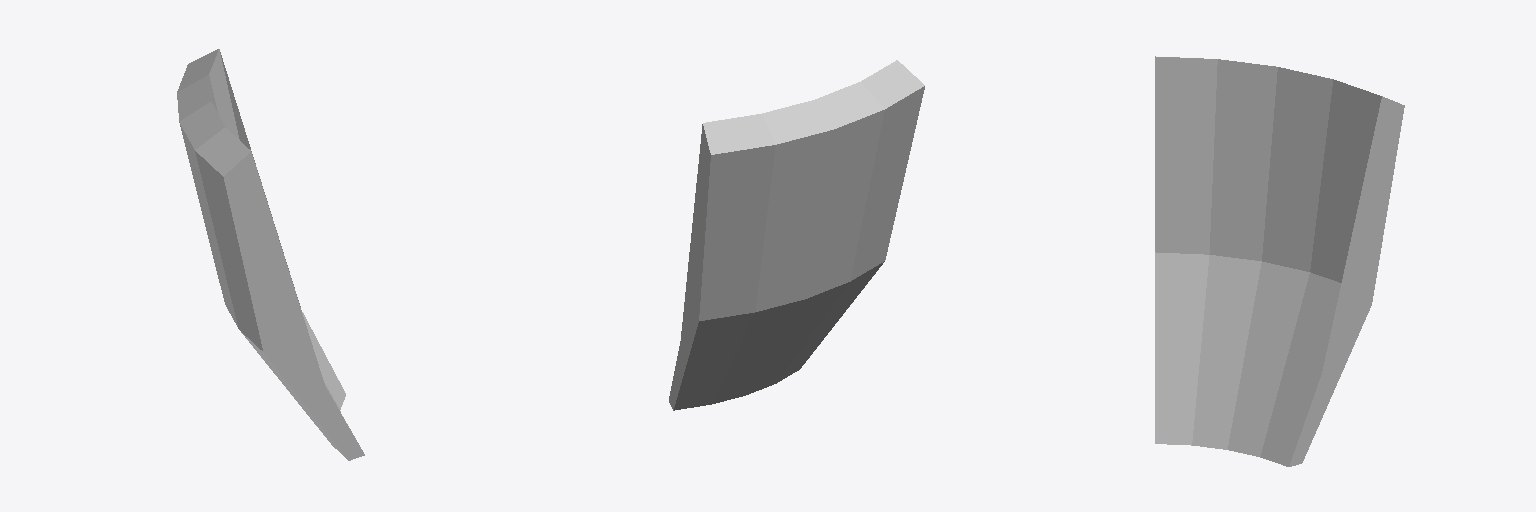
File: Level_3_1.obj
3 views of the same model, side by side, from view 1: azimuth 30°, elevation 25°; view 2: azimuth 150°, elevation 25°; view 3: azimuth 270°, elevation 25° (orthographic).
Parts seen in each view (by area): view 1: Level_3_1_Cylinder.036; view 2: Level_3_1_Cylinder.036; view 3: Level_3_1_Cylinder.036.
Part boxes in pixels (x1,y1,x2,y2): Level_3_1_Cylinder.036: (177,49,364,460); Level_3_1_Cylinder.036: (669,60,924,410); Level_3_1_Cylinder.036: (1155,56,1404,466).
Size of the model in its own units: 1.33 by 2.23 by 1.51.